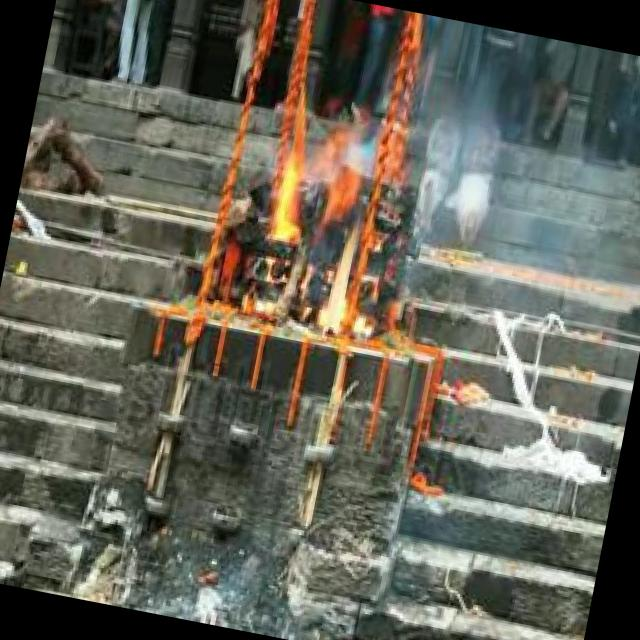Fire: (247, 90, 398, 340)
